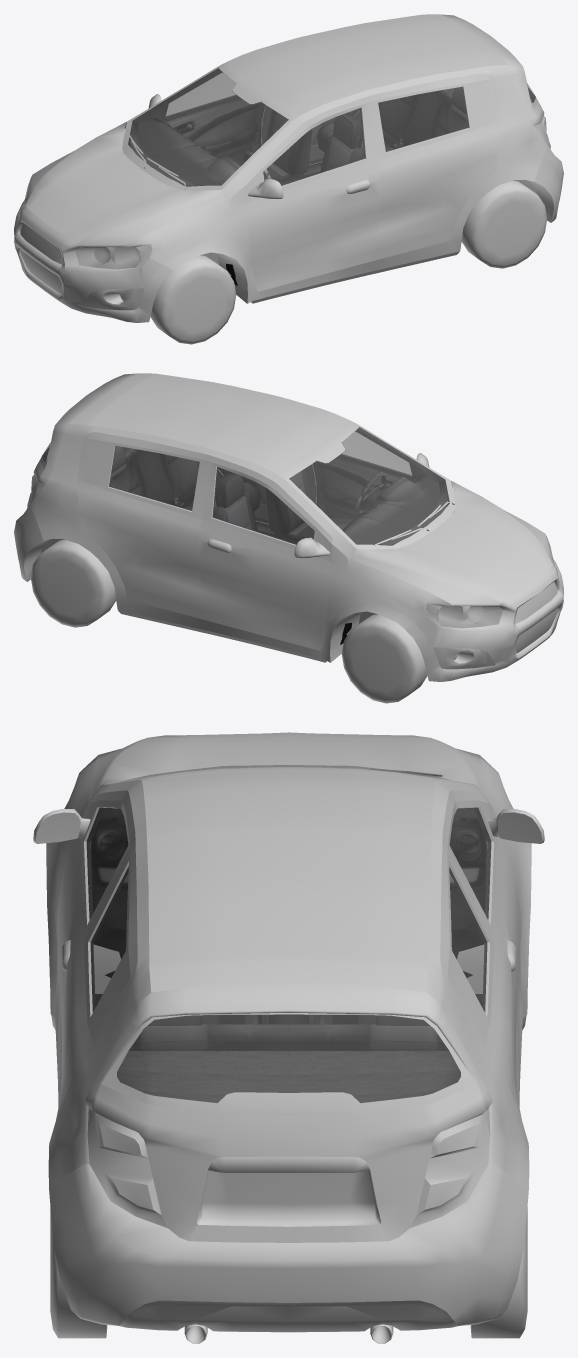
The model's file is MODERNHATCH.fbx.
3 views of the same model, one above another, from view 1: azimuth 30°, elevation 25°; view 2: azimuth 150°, elevation 25°; view 3: azimuth 270°, elevation 25° (orthographic). The views are drawn at different scales.
Parts seen in each view (by area): view 1: body, door_fl, door_rl, hood, bumper_front, door_fr, wheel_fl, wheel_rl, door_rear, headlights, bumper_rear, door_rr; view 2: body, door_fr, door_rr, hood, bumper_front, wheel_fr, wheel_rr, door_fl, door_rear, headlights, bumper_rear, door_rl; view 3: body, door_rear, bumper_rear, hood, door_fr, door_fl, door_rr, door_rl, wheel_rl, wheel_rr.
Boxes of the visible parts, x1,y1,x2,y2 form: body: (121,14,553,303); door_fl: (245,96,378,291); door_rl: (368,73,500,259); hood: (24,121,224,247); bumper_front: (14,199,172,322); door_fr: (148,70,265,159); wheel_fl: (150,255,236,344); wheel_rl: (461,180,547,268); door_rear: (440,14,544,125); headlights: (22,177,152,269); bumper_rear: (534,146,563,222); door_rr: (308,108,359,164); body: (24,373,456,662); door_fr: (199,455,332,650); door_rr: (77,432,209,618); hood: (353,480,553,606); bumper_front: (405,558,563,681); wheel_fr: (341,614,427,703); wheel_rr: (30,539,116,627); door_fl: (312,429,429,518); door_rear: (33,373,137,484); headlights: (425,536,555,628); bumper_rear: (14,505,43,581); door_rl: (218,467,269,523); body: (46,755,531,1343); door_rear: (85,983,492,1242); bumper_rear: (49,1164,528,1332); hood: (88,732,489,802); door_fr: (442,790,544,1086); door_fl: (33,790,135,1086); door_rr: (440,838,521,1119); door_rl: (56,838,137,1119); wheel_rl: (50,1207,107,1338); wheel_rr: (470,1207,527,1338).
Bounding box in the file's own units: 151 × 67.71 × 56.72.
